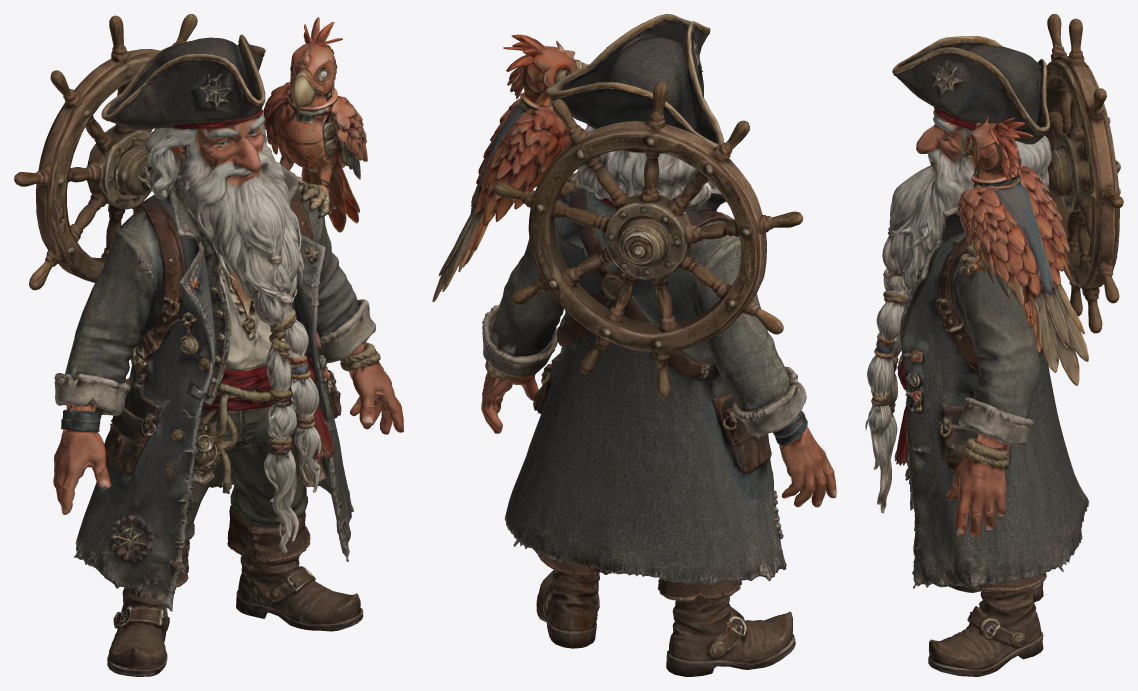
File: salitre.glb
3 renders of one model, left to right at view 1: azimuth 30°, elevation 25°; view 2: azimuth 150°, elevation 25°; view 3: azimuth 270°, elevation 25°, orthographic. The views are drawn at different scales.
Parts seen in each view (by area): view 1: tripo_node_d9324fef-e612-4e38-9d97-ebc1ee2938f9; view 2: tripo_node_d9324fef-e612-4e38-9d97-ebc1ee2938f9; view 3: tripo_node_d9324fef-e612-4e38-9d97-ebc1ee2938f9.
Part boxes in pixels (<box>): tripo_node_d9324fef-e612-4e38-9d97-ebc1ee2938f9: <box>14,14,403,676</box>; tripo_node_d9324fef-e612-4e38-9d97-ebc1ee2938f9: <box>432,14,836,676</box>; tripo_node_d9324fef-e612-4e38-9d97-ebc1ee2938f9: <box>865,14,1123,676</box>.
Size of the model in its own units: 0.5973 by 0.9797 by 0.3954.
1 material, 1 textured.
